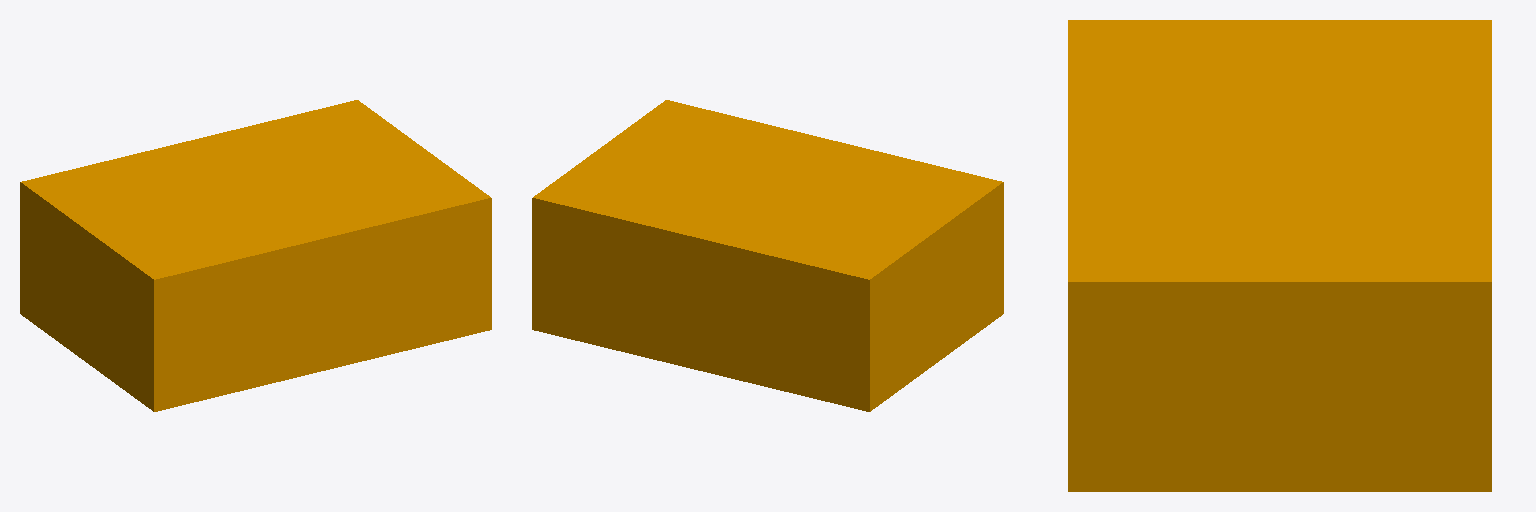
URDF robot description (2x2):
<?xml version='1.0' encoding='UTF-8'?>
<robot name="2x2">
  <link name="base_link">
    <inertial>
      <origin xyz="0.0 0.0 0.0" rpy="0.0 0.0 0.0"/>
      <mass value="0.01"/>
      <inertia ixx="0.1" ixy="0.0" ixz="0.0" iyy="0.1" iyz="0.0" izz="0.1"/>
    </inertial>
    <visual>
      <geometry>
        <box size="0.032 0.022 0.012"/>
      </geometry>
      <material name=""/>
      <origin xyz="0.0 0.0 0.0" rpy="0.0 0.0 0.0"/>
    </visual>
    <collision>
      <geometry>
        <box size="0.032 0.022 0.012"/>
      </geometry>
      <origin xyz="0.0 0.0 0.0" rpy="0.0 0.0 0.0"/>
    </collision>
  </link>
  <material name="">
    <color rgba="0.40841351 0.37800777 0.30382388 1.        "/>
  </material>
  <contact>
    <lateral_friction value="1.0"/>
    <rolling_friction value="0.0"/>
    <contact_cfm value="0.0"/>
    <contact_erp value="1.0"/>
  </contact>
</robot>

--- What the picture shows (computed from the rendered views, not written in the file) ---
The picture shows the robot from 3 angles, left to right: view 1: azimuth 30°, elevation 25°; view 2: azimuth 150°, elevation 25°; view 3: azimuth 270°, elevation 25°; orthographic projection.
Model 2x2 with 1 links and 0 joints (none), rooted at base_link, posed every joint at zero.
Visible links, largest first — view 1: base_link; view 2: base_link; view 3: base_link.
Link boxes in pixels (x1=…): base_link: x1=20, y1=100, x2=491, y2=411; base_link: x1=532, y1=100, x2=1003, y2=411; base_link: x1=1068, y1=20, x2=1491, y2=491.
Bounding box of the posed robot: 0.032 × 0.022 × 0.012 m (x, y, z).
Geometry: primitives only (box / cylinder / sphere), no mesh files.